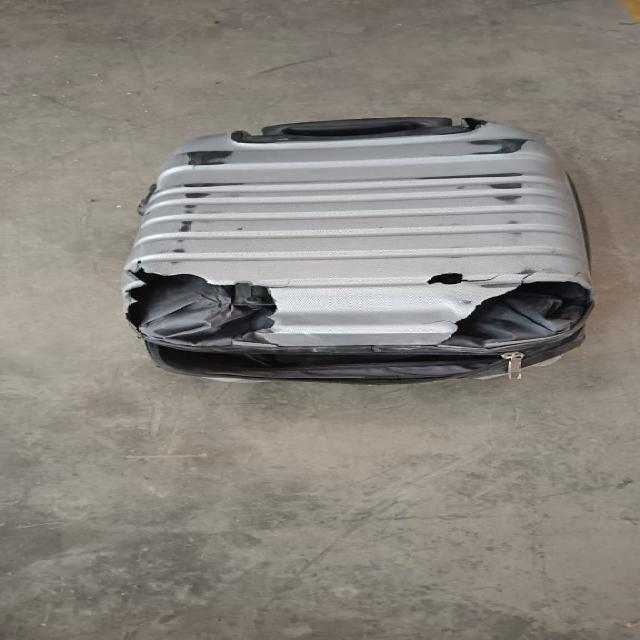Damage-bag: (128, 270, 592, 384), (431, 272, 467, 284)
